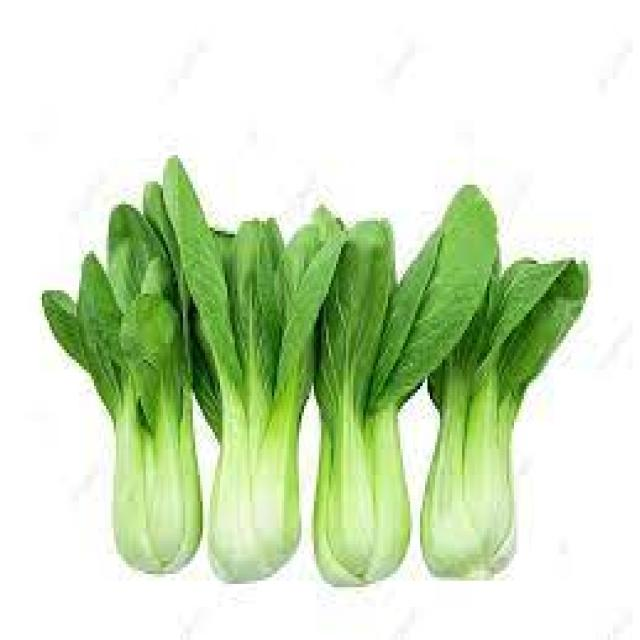bokchoy: (162, 147, 338, 589)
